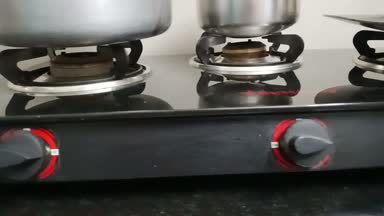flame_gas_off: (0, 38, 145, 186), (199, 29, 340, 171)
